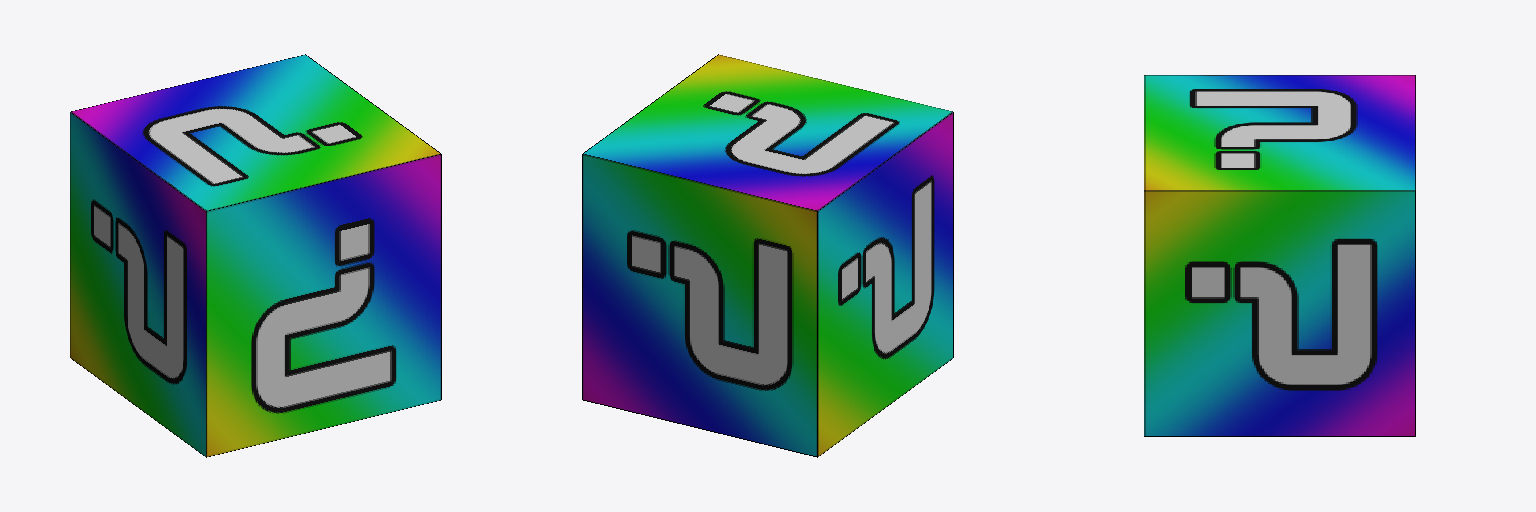
The picture shows the model from 3 angles: view 1: azimuth 30°, elevation 25°; view 2: azimuth 150°, elevation 25°; view 3: azimuth 270°, elevation 25°; orthographic projection.
Visible parts, largest first — view 1: Cube; view 2: Cube; view 3: Cube.
Boxes of the visible parts, x1,y1,x2,y2 form: Cube: [70, 54, 441, 457]; Cube: [582, 54, 953, 457]; Cube: [1144, 75, 1415, 436].
Bounding box in the file's own units: 0.16 × 0.16 × 0.16.
Materials: 1 (1 with a texture image).